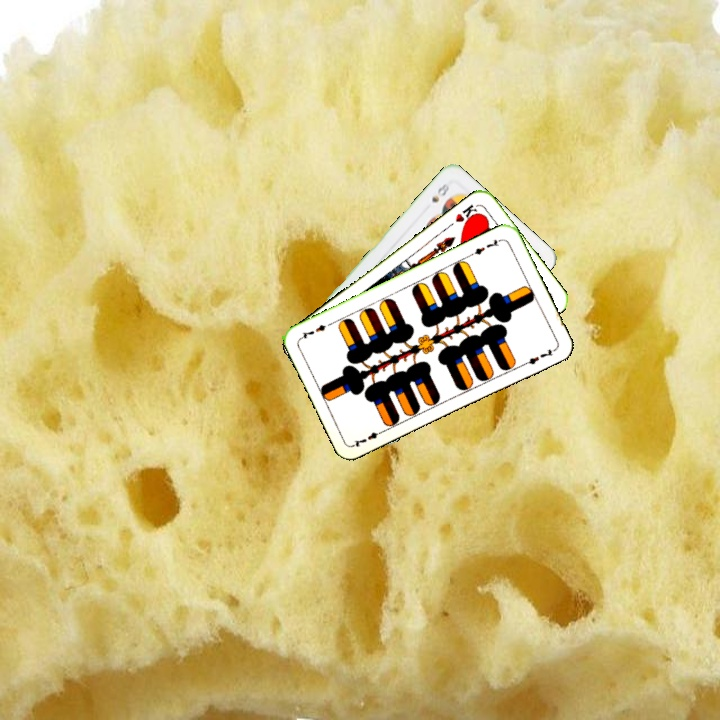E7: (350, 426, 388, 450), (467, 235, 505, 258)
HK: (451, 200, 482, 228)
S8: (427, 177, 452, 205)
